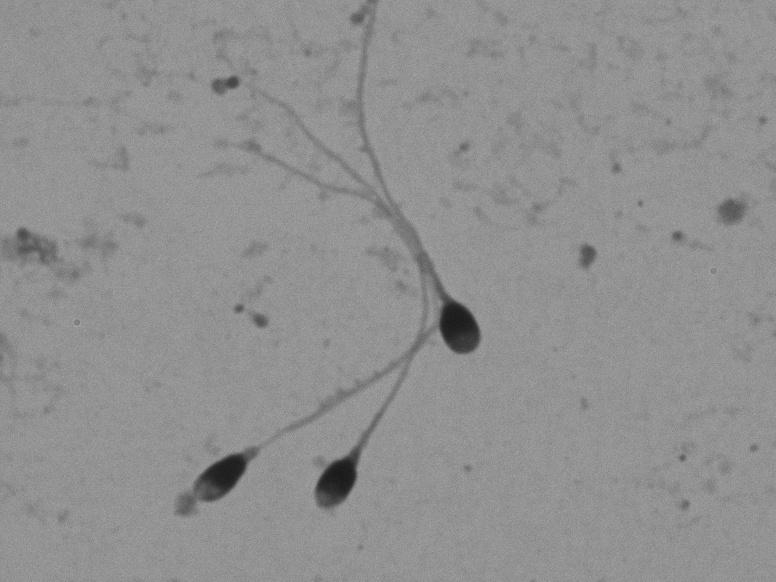Abnormal: (176, 320, 444, 527)
Normal: (205, 62, 442, 526), (340, 13, 501, 372)
